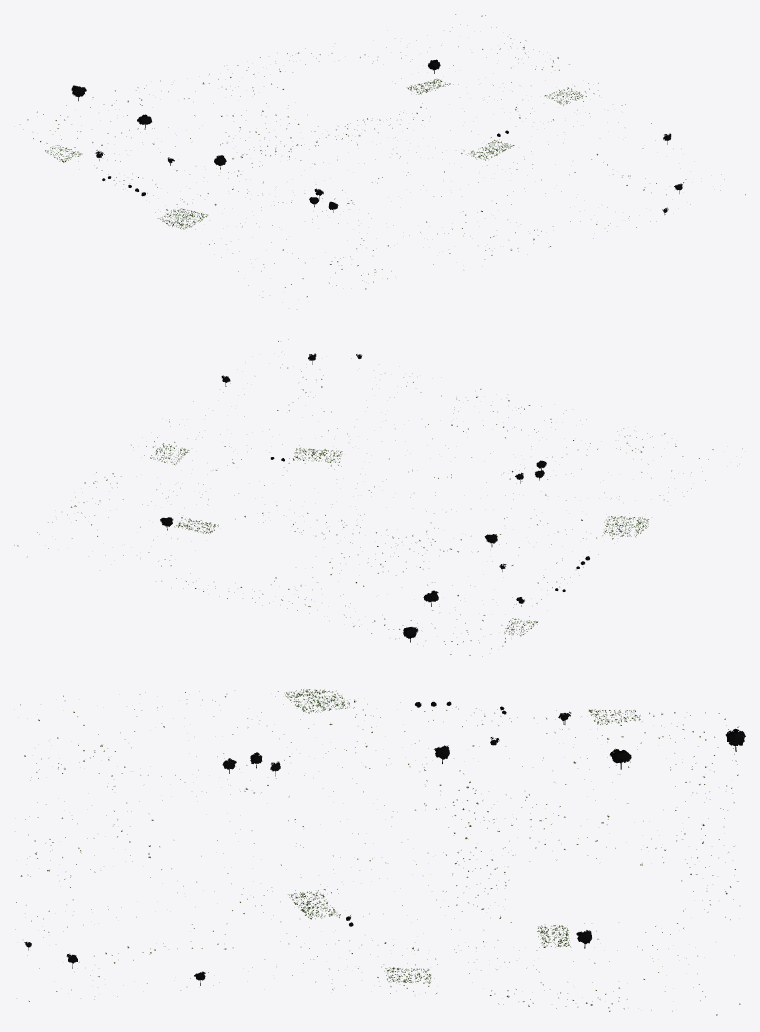
The model's file is Vegetation.fbx.
3 views of the same model, one above another, from view 1: azimuth 30°, elevation 25°; view 2: azimuth 150°, elevation 25°; view 3: azimuth 270°, elevation 25° (orthographic). The views are drawn at different scales.
Visible parts, largest first — view 1: EXPORT_OT_Vegetation_SA_M01_02_S02_00; view 2: EXPORT_OT_Vegetation_SA_M01_02_S02_00; view 3: EXPORT_OT_Vegetation_SA_M01_02_S02_00.
Boxes of the visible parts, <box> form: EXPORT_OT_Vegetation_SA_M01_02_S02_00: <box>20,14,745,297</box>; EXPORT_OT_Vegetation_SA_M01_02_S02_00: <box>14,339,742,656</box>; EXPORT_OT_Vegetation_SA_M01_02_S02_00: <box>15,689,745,1015</box>.
Size of the model in its own units: 250 by 15.75 by 252.
